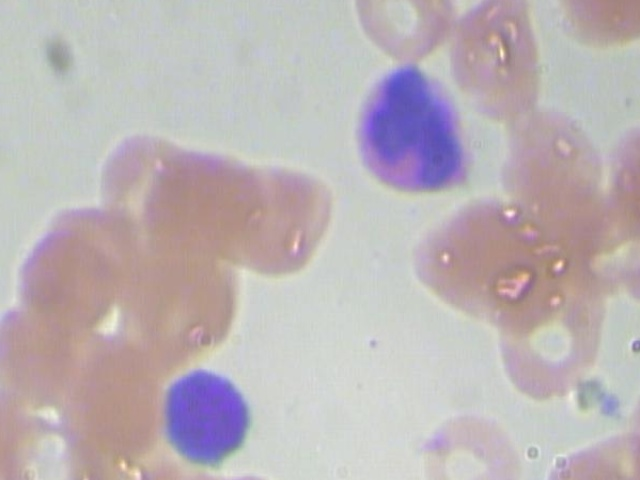RBC: (493, 265, 611, 407), (216, 164, 341, 287), (488, 100, 613, 223), (433, 0, 558, 111), (10, 227, 126, 339), (87, 124, 202, 235), (0, 301, 90, 412), (0, 403, 105, 480), (410, 415, 534, 480), (337, 0, 461, 63)
WBC: (343, 59, 482, 202), (156, 362, 260, 468)
